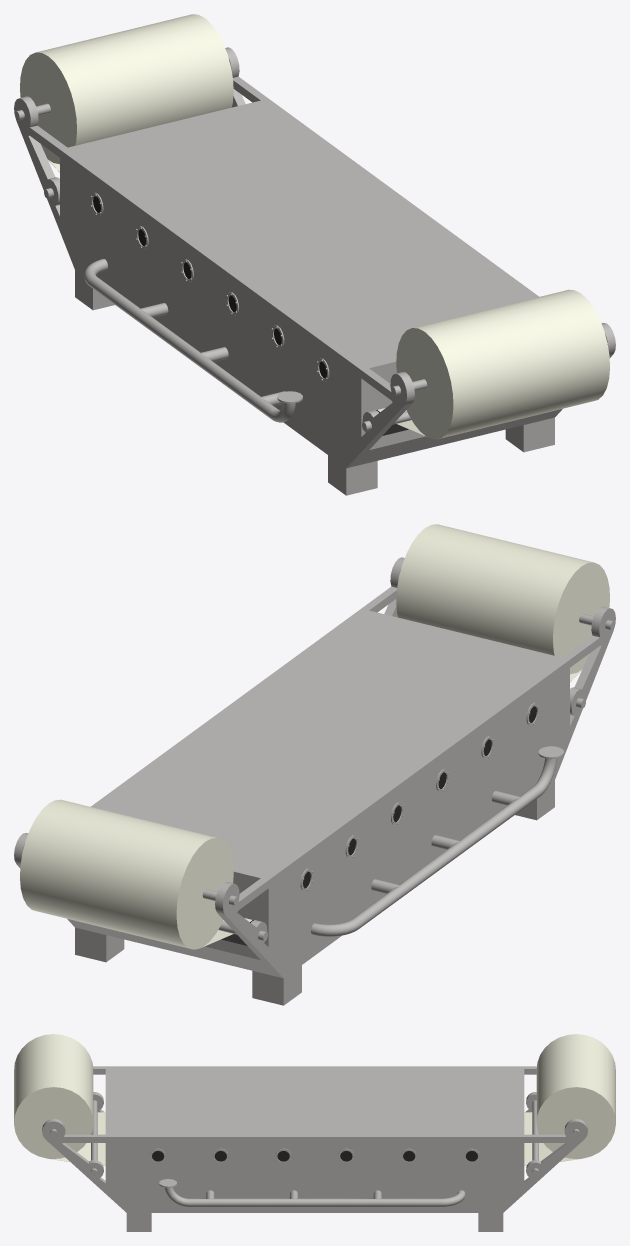
The model's file is Textilwaschmaschine.obj.
3 views of the same model, one above another, from view 1: azimuth 30°, elevation 25°; view 2: azimuth 150°, elevation 25°; view 3: azimuth 270°, elevation 25° (orthographic). The views are drawn at different scales.
Visible parts, largest first — view 1: Volumenkörper1; view 2: Volumenkörper1; view 3: Volumenkörper1.
Boxes of the visible parts, bbox=[...] form: Volumenkörper1: bbox=[14, 14, 615, 495]; Volumenkörper1: bbox=[14, 524, 615, 1005]; Volumenkörper1: bbox=[14, 1034, 615, 1231].
Bounding box in the file's own units: 2.72 × 1.79 × 7.19.
4 materials, 2 textured.
